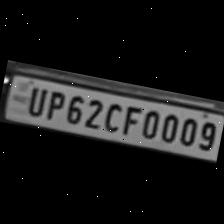0: (136, 106, 163, 141), (174, 113, 200, 148), (156, 110, 180, 144)
2: (80, 95, 105, 130)
6: (60, 91, 86, 126)
9: (194, 117, 219, 152)
C: (100, 99, 124, 134)
F: (118, 102, 142, 137)
P: (42, 88, 67, 122)
U: (21, 82, 49, 118)
